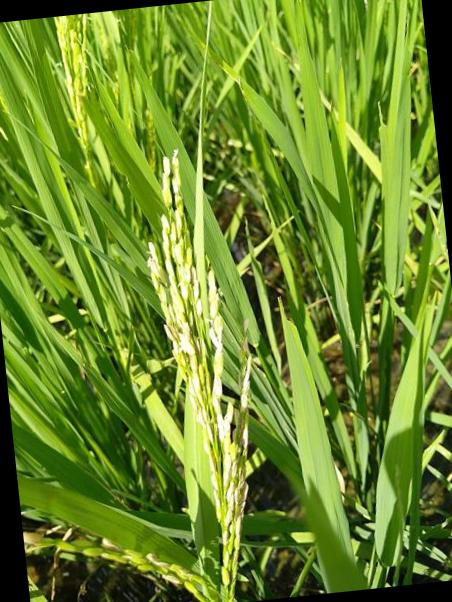Panicle Blight: (148, 150, 251, 564)
